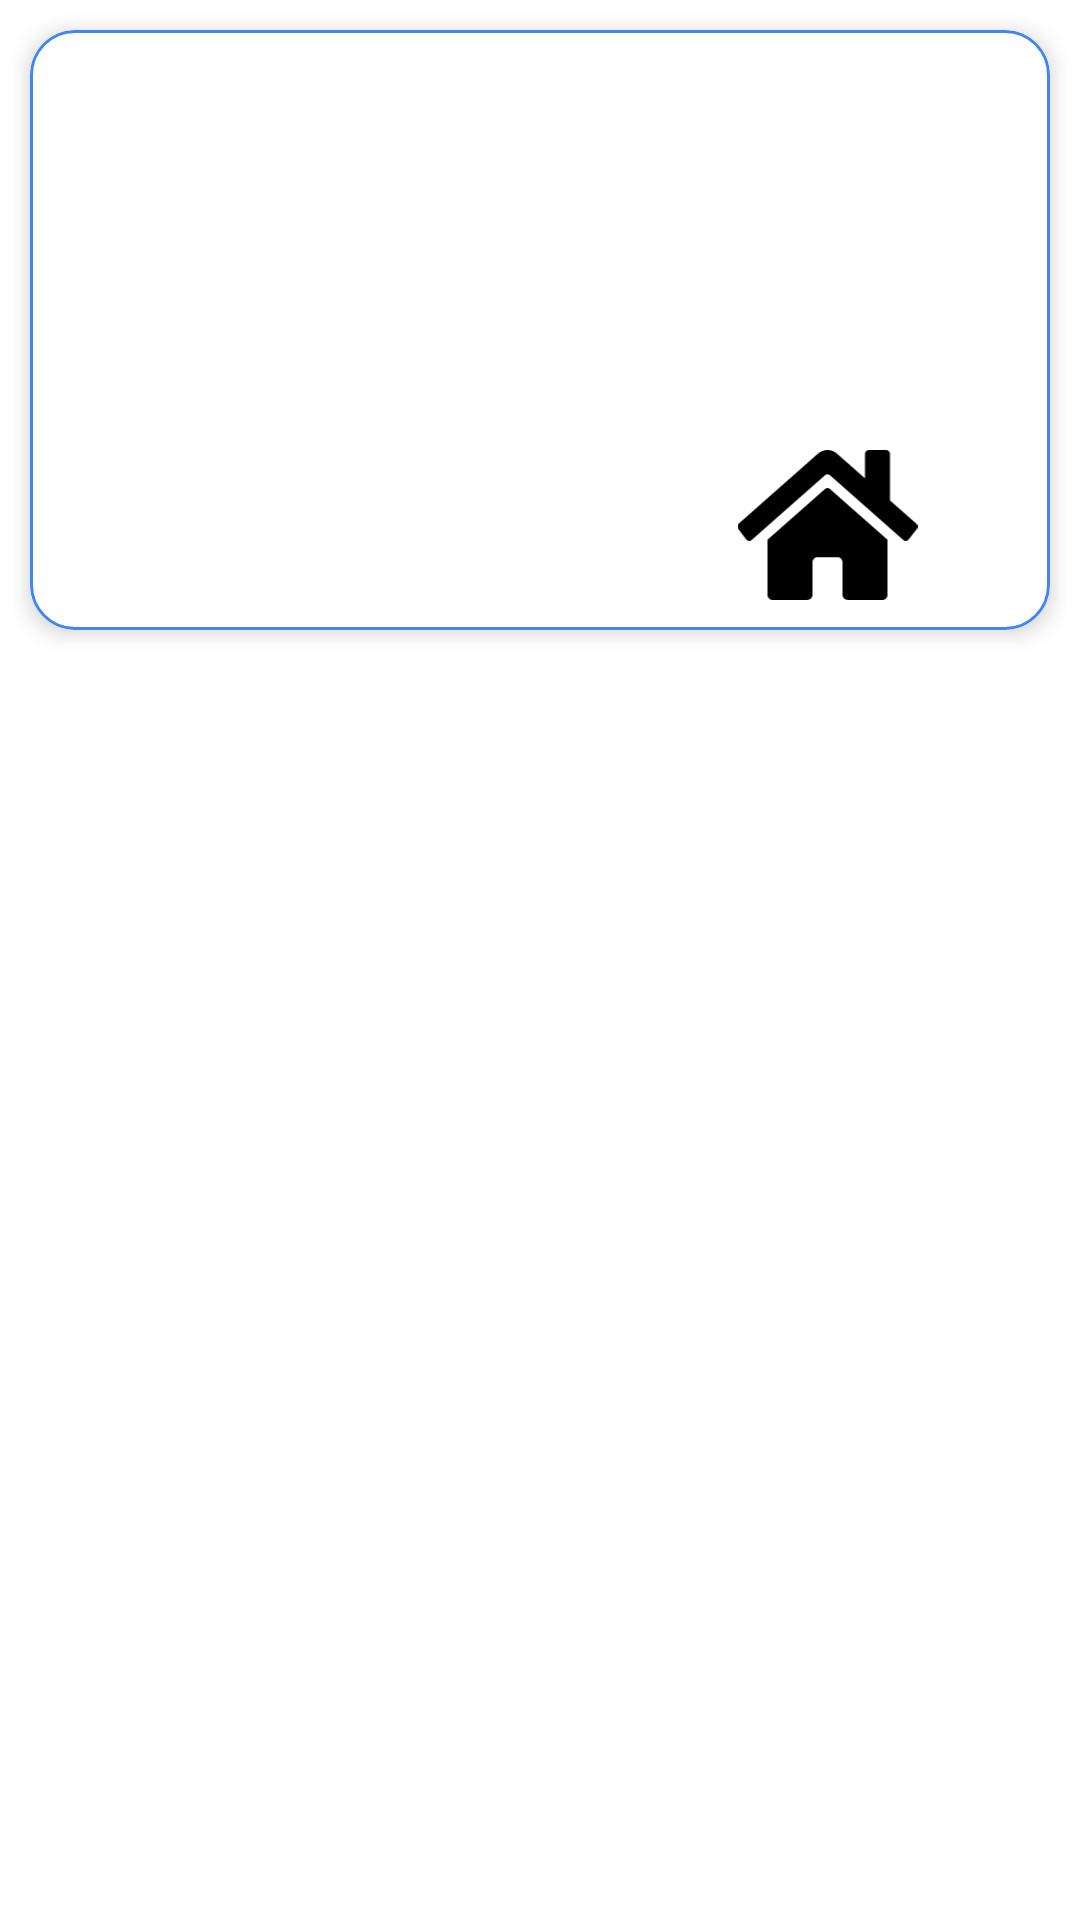

Screen size 1080x1920. Icon name, then its box in pixels as (x1, y1, x2, y2):
home: (738, 450, 918, 600)
